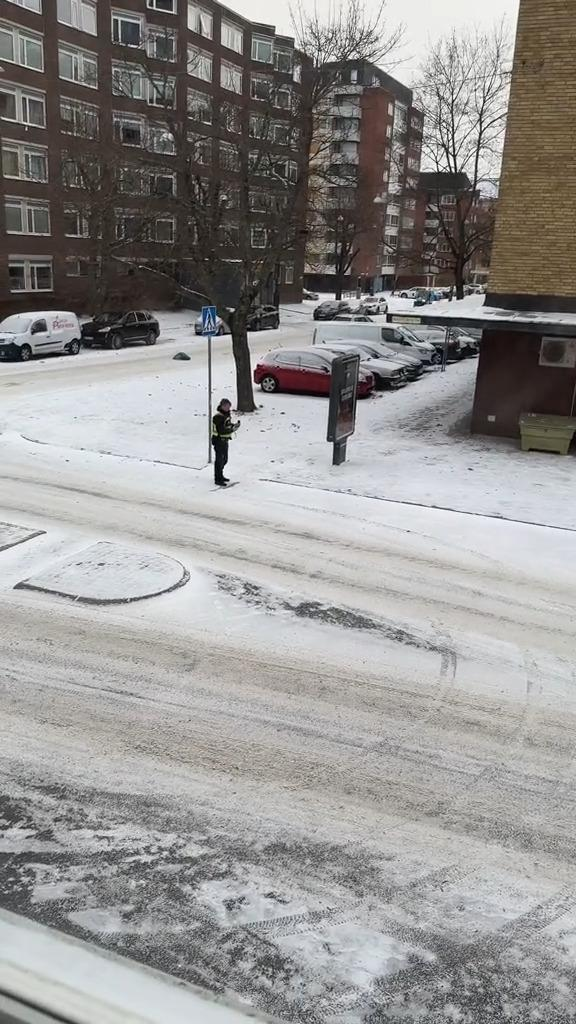parking-attendant: (211, 399, 238, 486)
